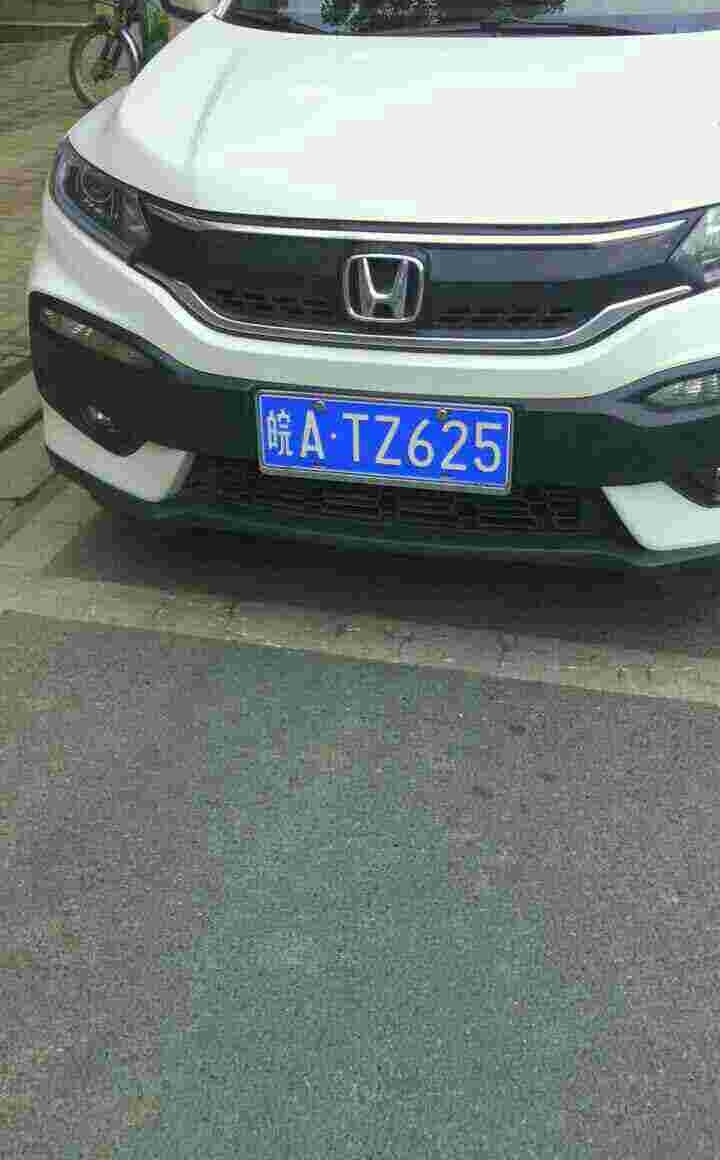license_plate: (250, 386, 519, 489)
